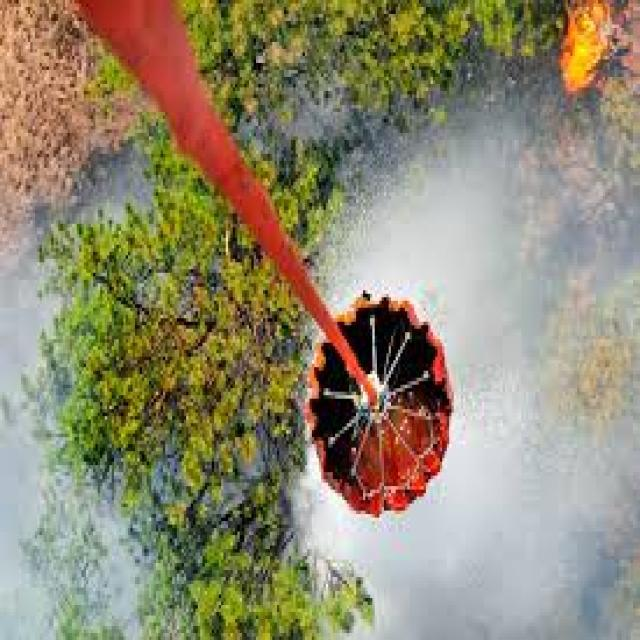Fire: (562, 0, 611, 94)
Smoke: (300, 98, 640, 640), (0, 147, 146, 640)
